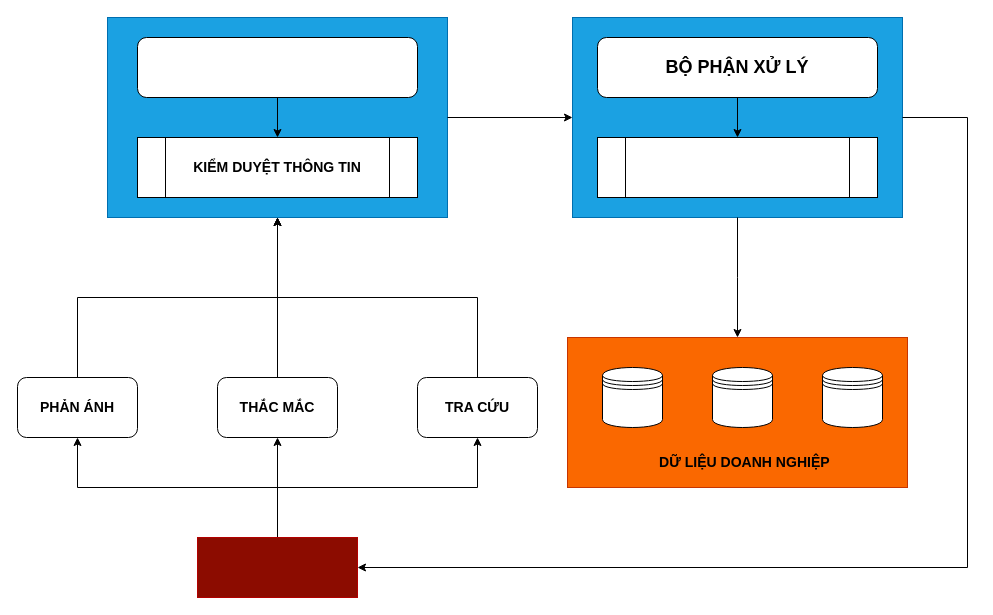
This 993x615 diagram has some shape labels left out. Here are the shapes that lost their labels. From the top down, the centre of each, then its label:
At point (277, 67): "BỘ PHẬN KIỂM DUYỆT".
At point (737, 167): "GIẢI ĐÁP THẮC MẮC - XÁC NHẬN VI PHẠM".
At point (277, 567): "NGƯỜI DÂN".
